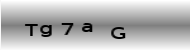7: (59, 21, 75, 36)
G: (109, 25, 128, 40)
T: (24, 22, 39, 37)
a: (81, 22, 94, 33)
g: (38, 23, 53, 38)
